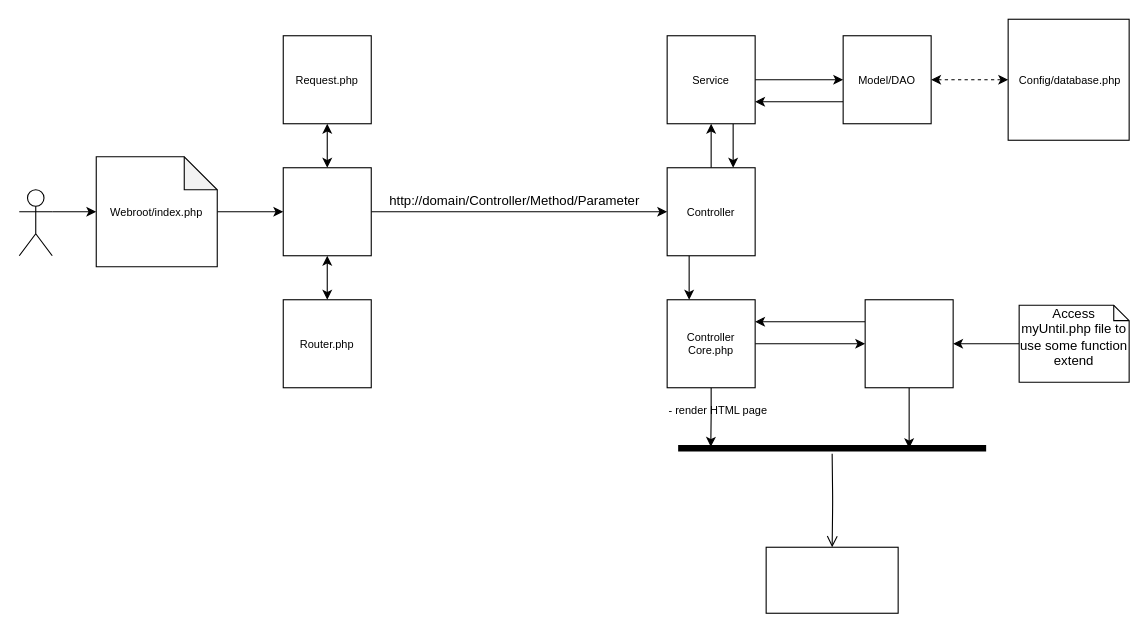
Image size: 1148x633. Some labels were removed from this diagram. Each missing label, with the centre of its shape:
"default.php" goes at point (831, 579).
"Dispatcher.php" goes at point (326, 211).
"Users" goes at point (35, 222).
"View.php" goes at point (908, 343).
